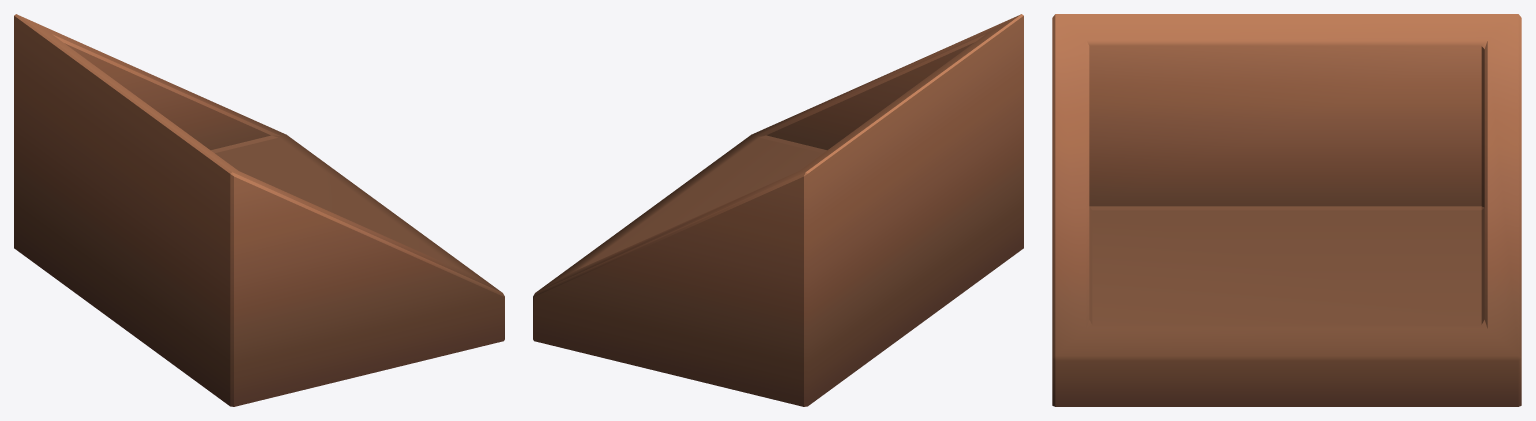
File: Raw Ore Box.fbx
The picture shows the model from 3 angles, left to right: view 1: azimuth 30°, elevation 25°; view 2: azimuth 150°, elevation 25°; view 3: azimuth 270°, elevation 25°; orthographic projection. The views are drawn at different scales.
Visible parts, largest first — view 1: Cube.005; view 2: Cube.005; view 3: Cube.005.
Boxes of the visible parts, bbox=[...] form: Cube.005: bbox=[14, 14, 504, 406]; Cube.005: bbox=[533, 14, 1023, 406]; Cube.005: bbox=[1052, 14, 1521, 406].
Size of the model in its own units: 2 by 1.63 by 2.76.
